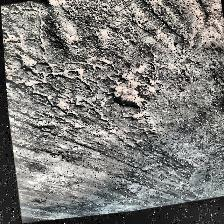pothole: (108, 73, 146, 117)
